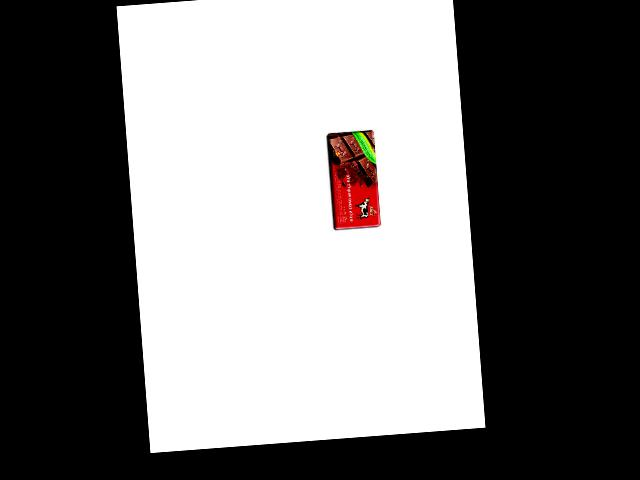chocolate: (322, 129, 382, 233)
